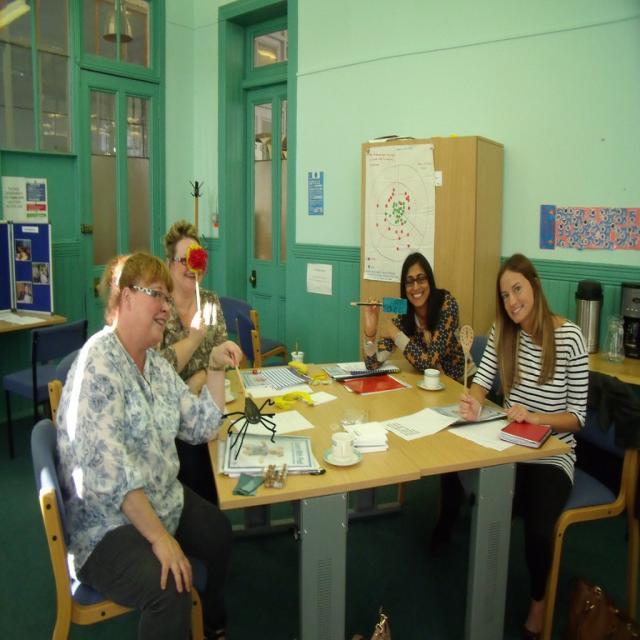chair: (30, 418, 202, 640), (541, 442, 640, 639), (2, 317, 87, 459), (218, 296, 288, 368)
desk: (174, 355, 552, 629)
person: (63, 251, 238, 640), (458, 254, 588, 636), (159, 219, 240, 387), (392, 252, 466, 386)
